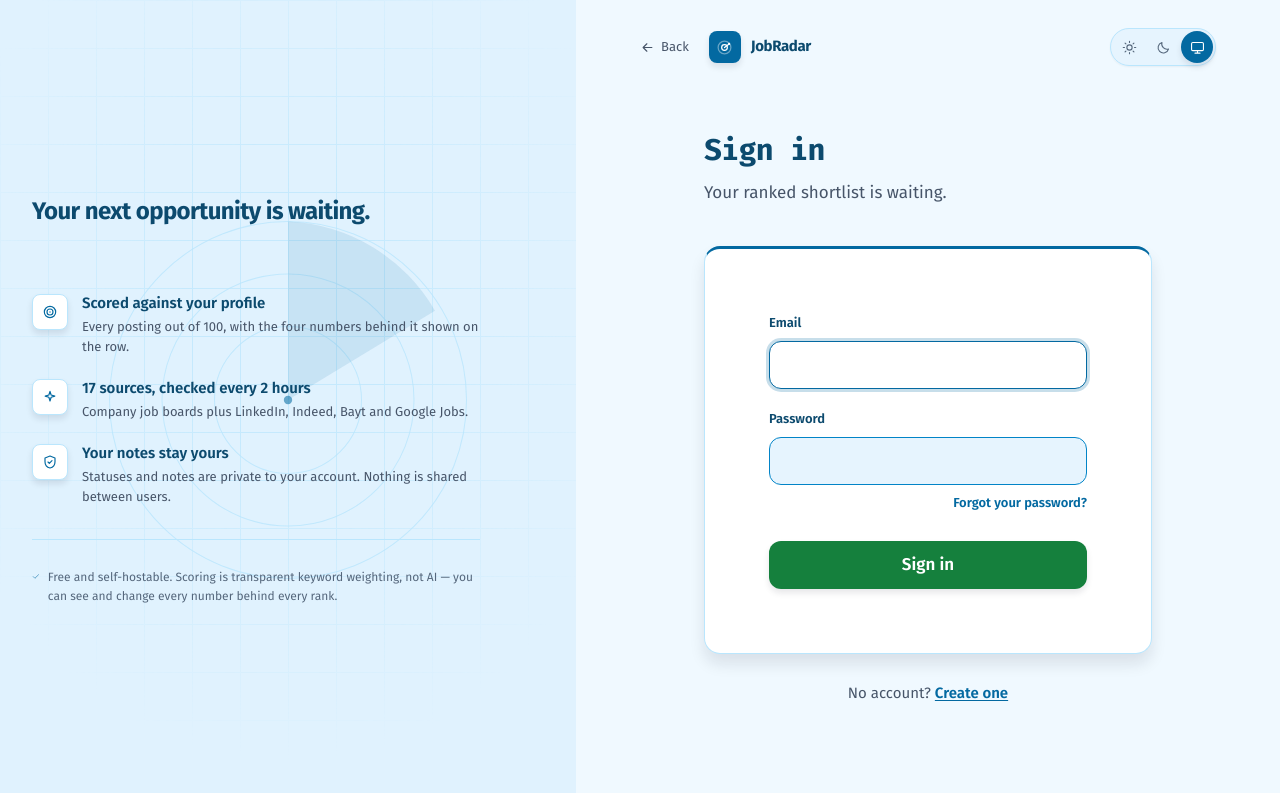
Test case: signing in › keeps the access token out of storage
The image size is (1280, 793).
Expected: the heading "Sign in" is shown, [704,130,825,170]
Step 1. Type "dev@example.com" into the field labelled "Email" → (928,365), box [769,341,1087,389]
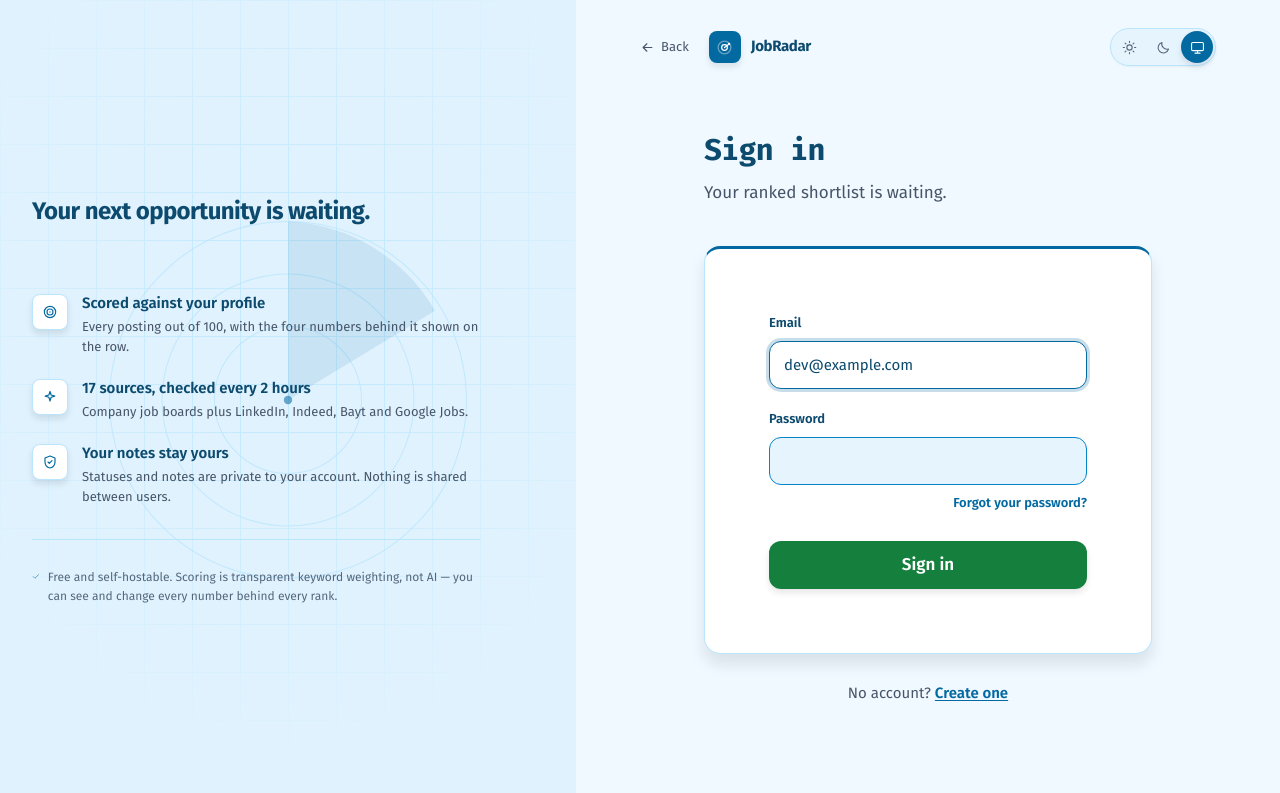
Step 2. Type "correct-horse-battery" into the password field labelled "Password" → (928,461), box [769,437,1087,485]
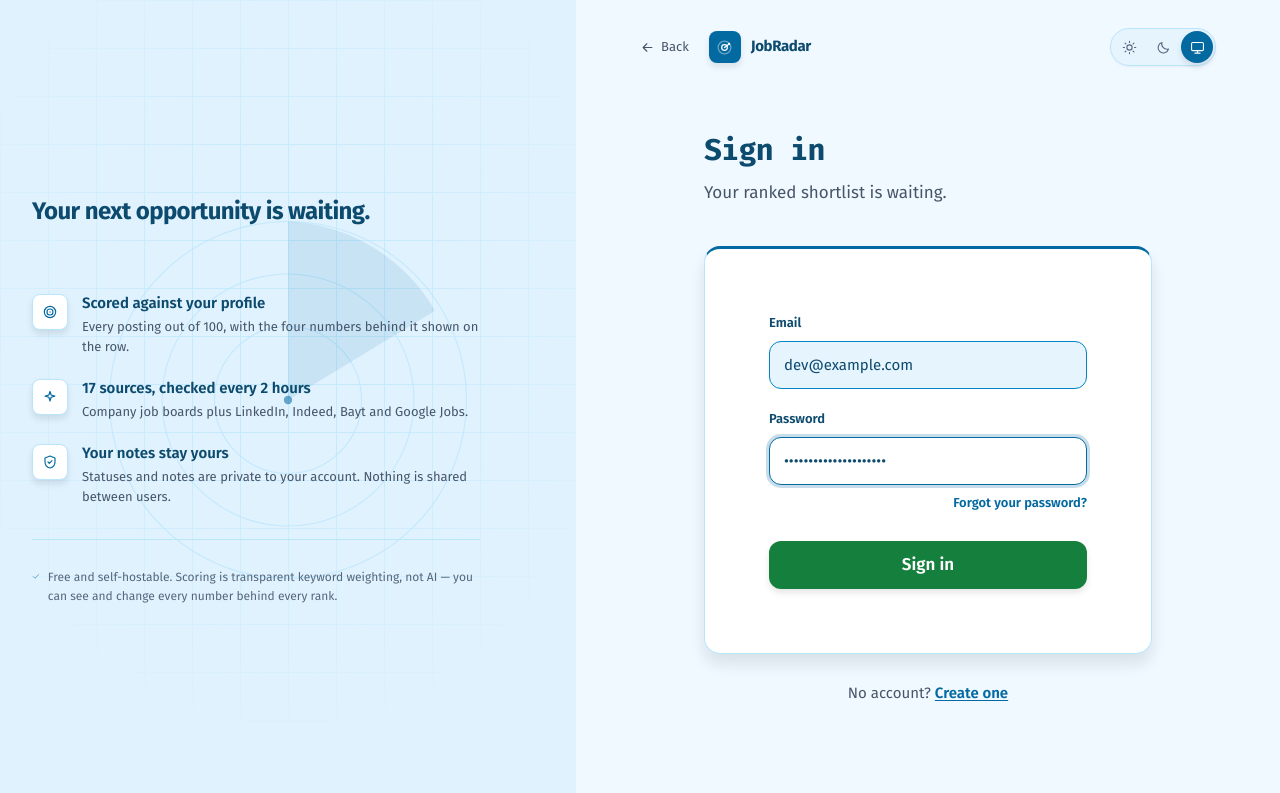
Step 3. Click the button "Sign in" → (928,565), box [769,541,1087,589]
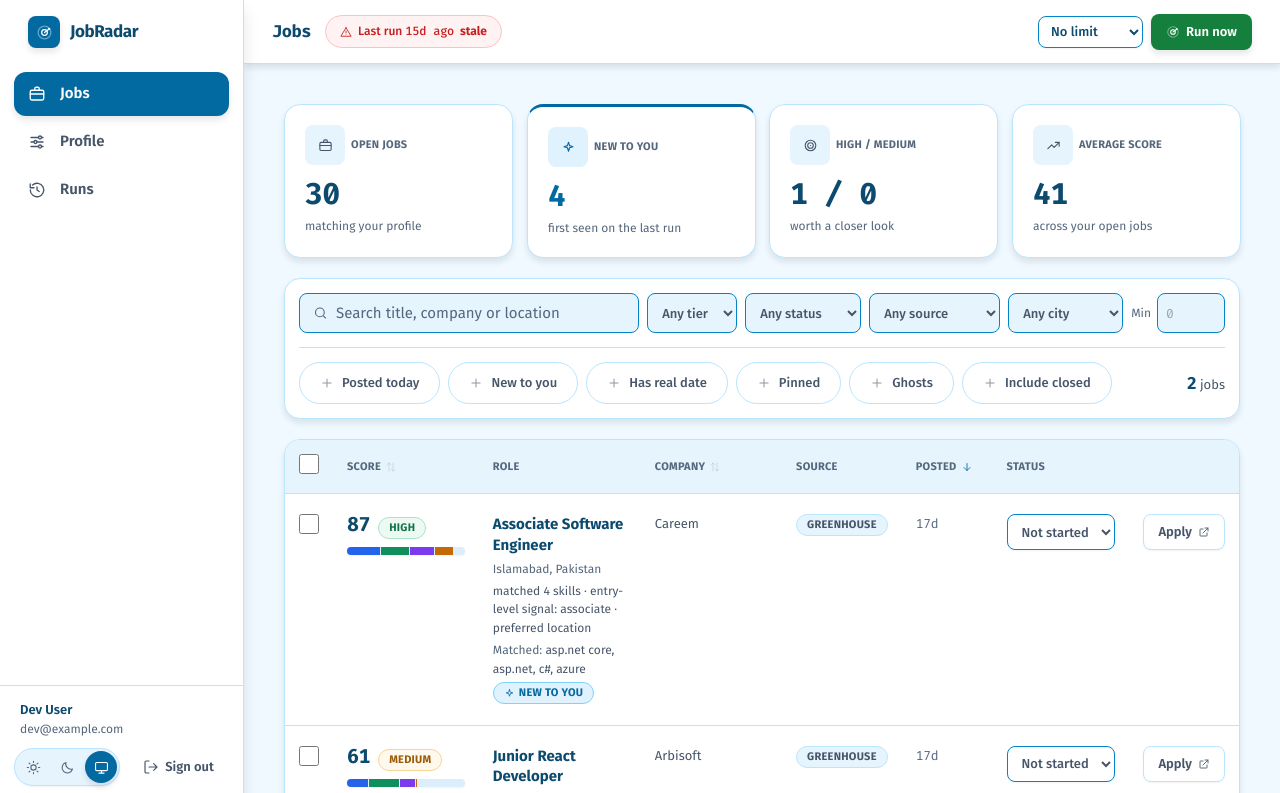
Result: the heading "Jobs" is shown at [272,18,311,45]
